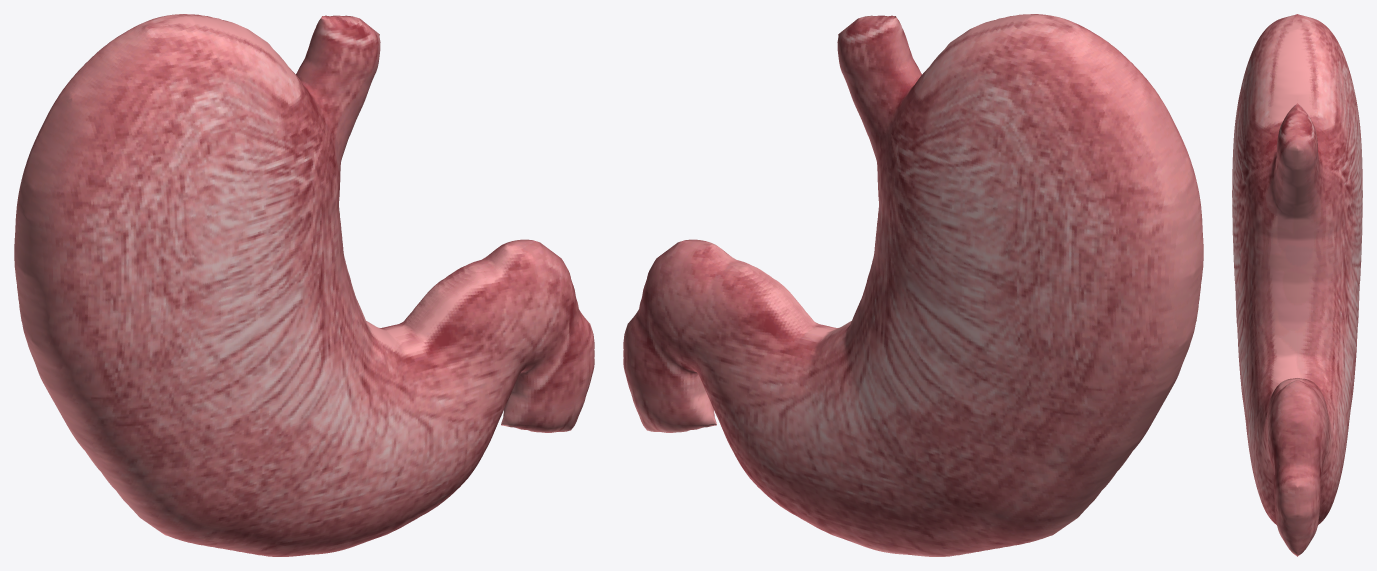
The model's file is lambung.glb.
3 views of the same model, side by side, from view 1: azimuth 30°, elevation 25°; view 2: azimuth 150°, elevation 25°; view 3: azimuth 270°, elevation 25° (orthographic). The views are drawn at different scales.
Visible parts, largest first — view 1: root_Material_221_0; view 2: root_Material_221_0; view 3: root_Material_221_0.
Part boxes in pixels (x1,y1,x2,y2): root_Material_221_0: (14,14,594,556); root_Material_221_0: (623,14,1203,556); root_Material_221_0: (1232,14,1362,556).
Bounding box in the file's own units: 0.2489 × 0.2369 × 0.0655.
Materials: 1 (1 with a texture image).
